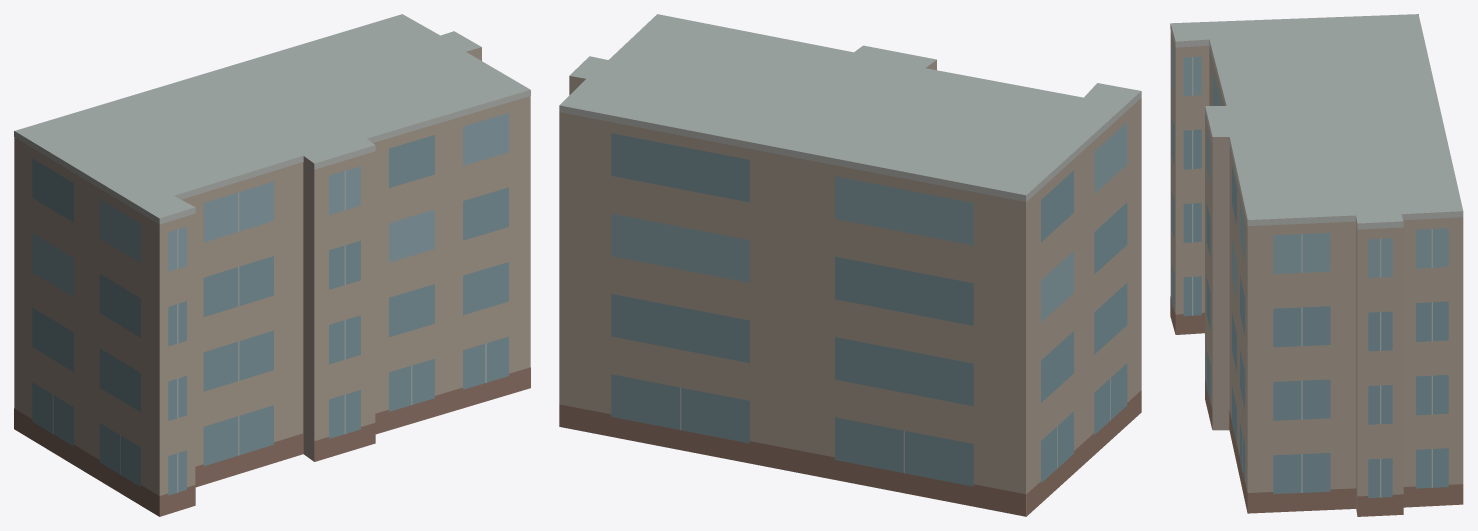
Rendered from survey-upis-32759006.glb.
3 renders of one model, left to right at view 1: azimuth 30°, elevation 25°; view 2: azimuth 150°, elevation 25°; view 3: azimuth 270°, elevation 25°, orthographic. The views are drawn at different scales.
Visible parts, largest first — view 1: survey-upis-32759006.tmp; view 2: survey-upis-32759006.tmp; view 3: survey-upis-32759006.tmp.
Part boxes in pixels (x1,y1,x2,y2): survey-upis-32759006.tmp: (14,14,530,516); survey-upis-32759006.tmp: (559,14,1141,516); survey-upis-32759006.tmp: (1170,14,1463,516).
Size of the model in its own units: 18 by 11.75 by 10.64.
